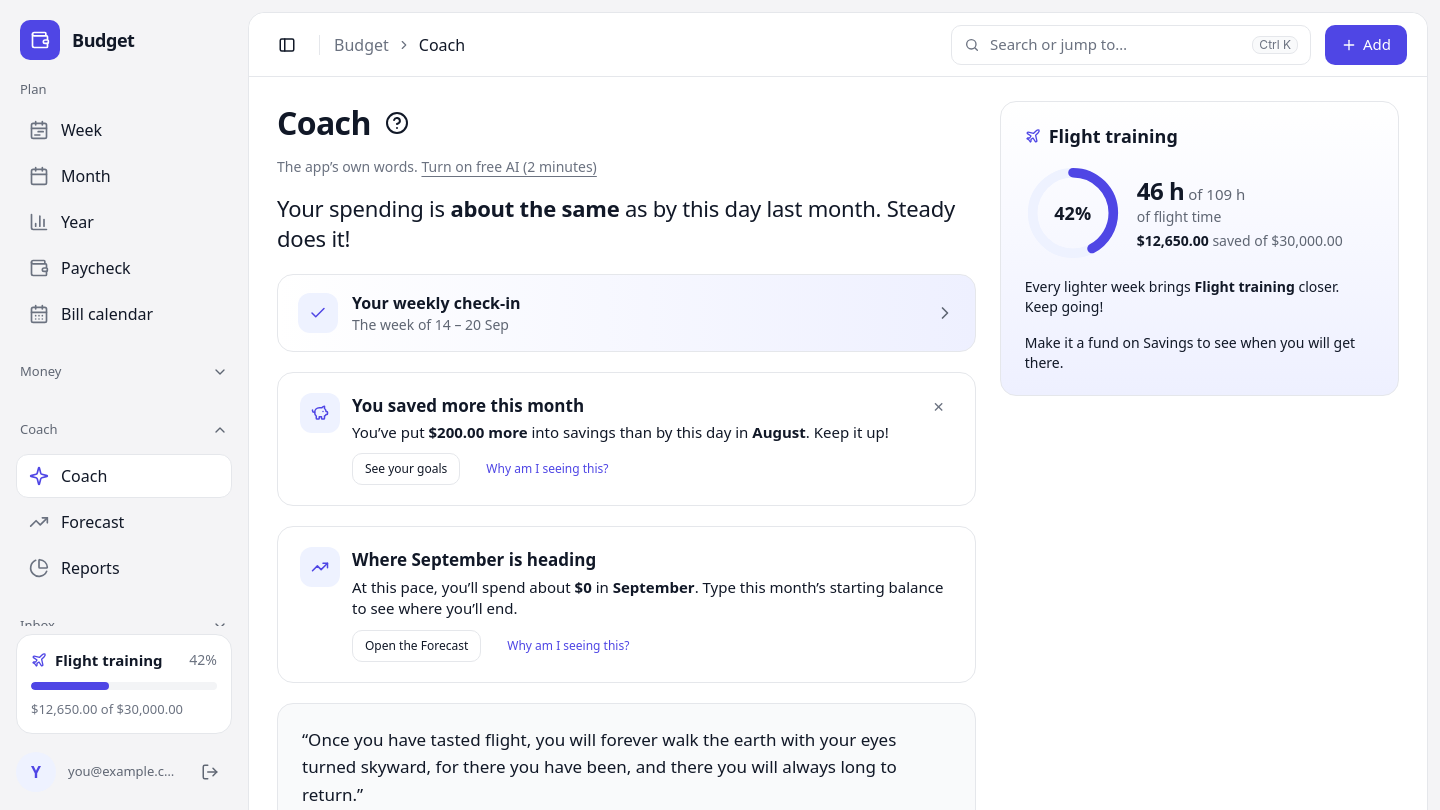
Test: the Coach’s wins (A08) › says more was saved than by this day last month, and names the figures
The width and height of the screenshot is (1440, 810).
Expected: the element that starts with "You’ve put" is shown, [352, 422, 905, 443]
Click the button "Why am I seeing this?" below "You’ve put".
click(547, 469)  # box [474, 453, 620, 485]
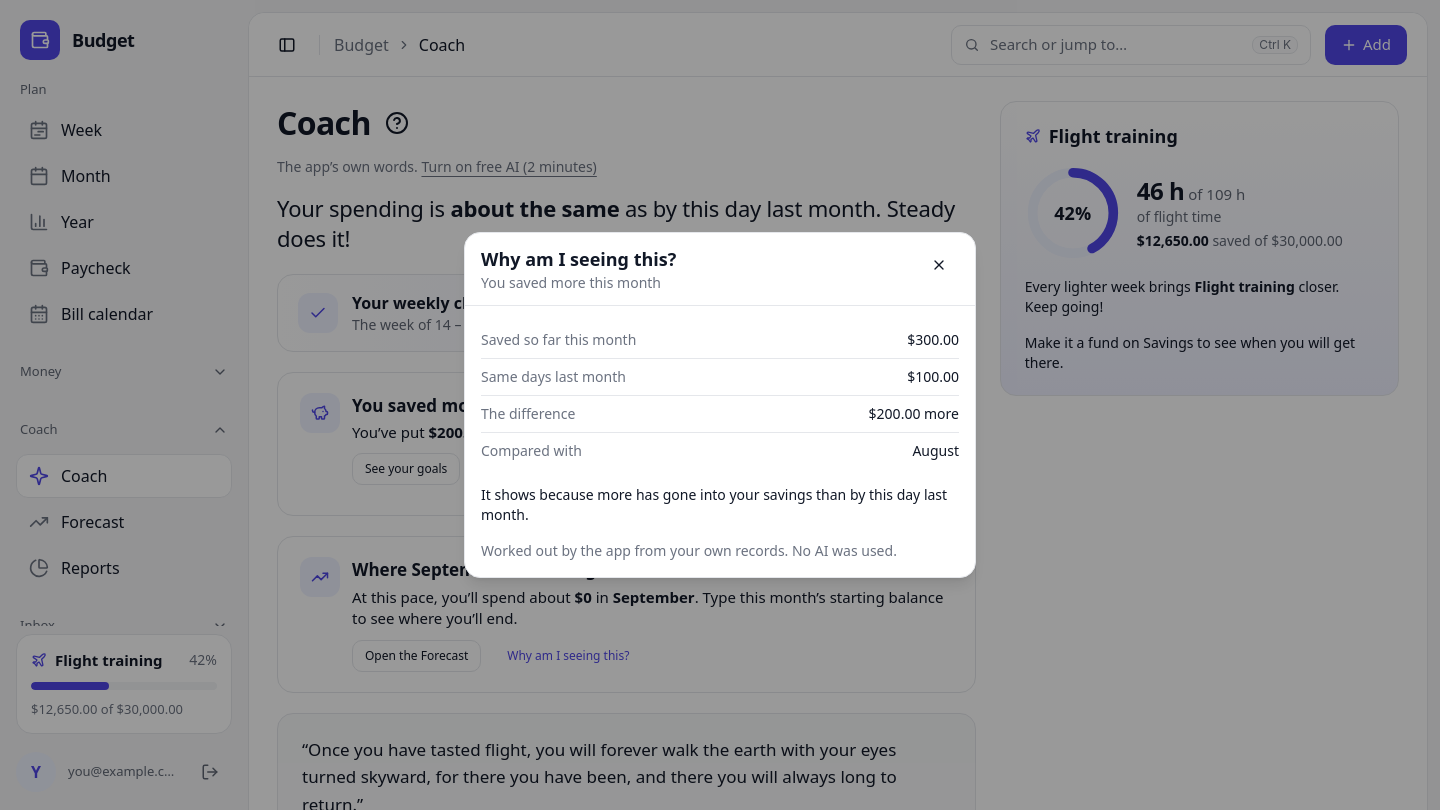
Now the text "Saved so far this month" is shown, box [481, 330, 636, 350]
Now the text "It shows because more has gone into your savings than by this day last month." is shown, box [481, 485, 959, 525]
